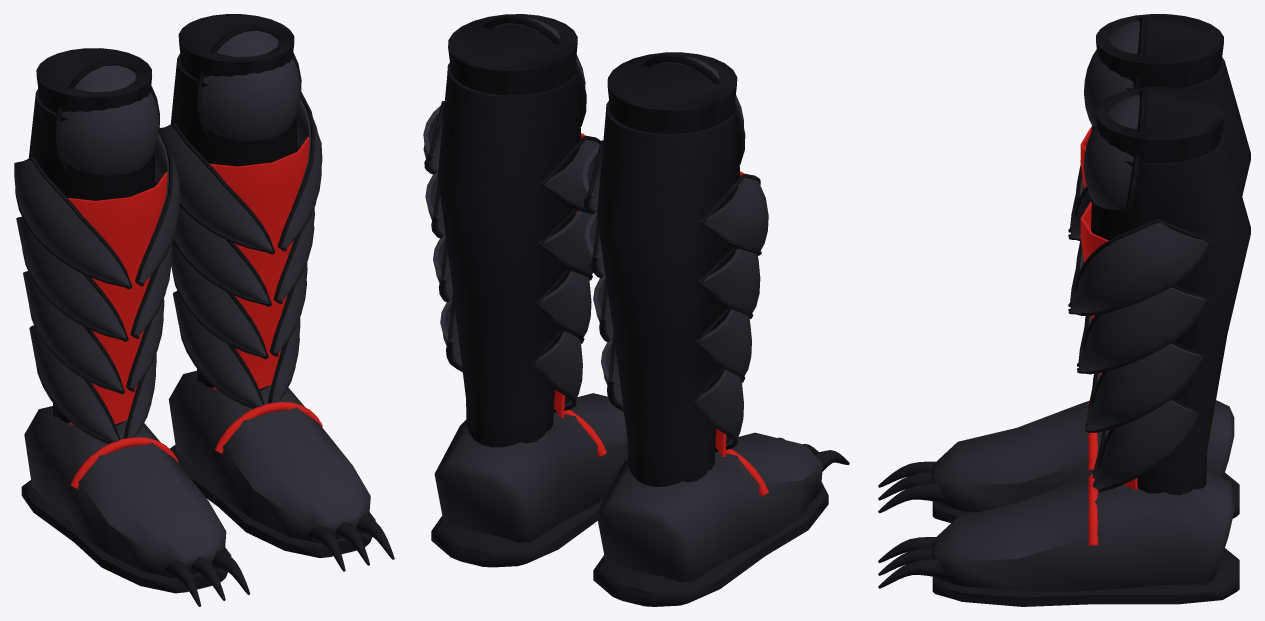
File: f_emberscale.glb
3 views of the same model, side by side, from view 1: azimuth 30°, elevation 25°; view 2: azimuth 150°, elevation 25°; view 3: azimuth 270°, elevation 25° (orthographic). The views are drawn at different scales.
Visible parts, largest first — view 1: LegR_Boot, LegL_Boot, LegR_BootFoot, LegL_BootFoot, LegL_Shin, LegR_Shin; view 2: LegR_Shin, LegL_Shin, LegR_BootFoot, LegR_Boot, LegL_Boot, LegL_BootFoot; view 3: LegL_Boot, LegL_BootFoot, LegL_Shin, LegR_BootFoot, LegR_Boot, LegR_Shin.
Part boxes in pixels (x1=…): LegR_Boot: x1=14, y1=48, x2=180, y2=443; LegL_Boot: x1=160, y1=14, x2=322, y2=408; LegR_BootFoot: x1=21, y1=406, x2=250, y2=606; LegL_BootFoot: x1=168, y1=370, x2=394, y2=571; LegL_Shin: x1=170, y1=53, x2=297, y2=390; LegR_Shin: x1=28, y1=88, x2=154, y2=425; LegR_Shin: x1=597, y1=101, x2=739, y2=486; LegL_Shin: x1=437, y1=62, x2=580, y2=447; LegR_BootFoot: x1=593, y1=432, x2=849, y2=606; LegR_Boot: x1=582, y1=52, x2=768, y2=456; LegL_Boot: x1=423, y1=14, x2=600, y2=417; LegL_BootFoot: x1=431, y1=393, x2=627, y2=567; LegL_Boot: x1=1068, y1=87, x2=1223, y2=491; LegL_BootFoot: x1=878, y1=471, x2=1239, y2=606; LegL_Shin: x1=1091, y1=131, x2=1250, y2=495; LegR_BootFoot: x1=878, y1=400, x2=1239, y2=522; LegR_Boot: x1=1068, y1=14, x2=1223, y2=240; LegR_Shin: x1=1091, y1=57, x2=1250, y2=195.
Size of the model in its own units: 0.3878 by 0.5887 by 0.4055.
